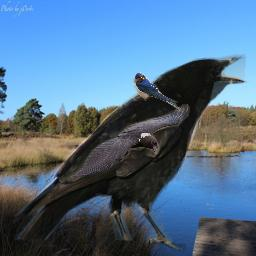Crow: (12, 52, 251, 256), (68, 104, 190, 180)
Swallow: (133, 72, 184, 113)
